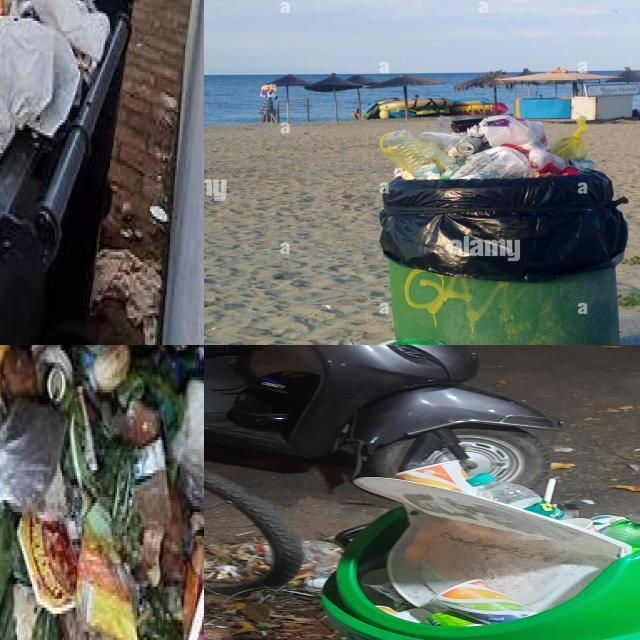Garbage: (0, 345, 204, 640), (324, 460, 640, 640), (380, 116, 595, 180)
Plastic_Bag: (0, 399, 66, 519), (451, 146, 534, 179), (290, 541, 342, 592), (480, 114, 548, 148), (550, 116, 588, 161), (419, 132, 460, 172), (529, 148, 568, 174), (451, 118, 484, 133)
Plastic_bottle: (467, 473, 570, 520), (380, 130, 444, 179), (603, 520, 640, 547)
Plastic_wraper: (76, 501, 139, 640), (17, 517, 77, 614)
can: (455, 136, 482, 158)
